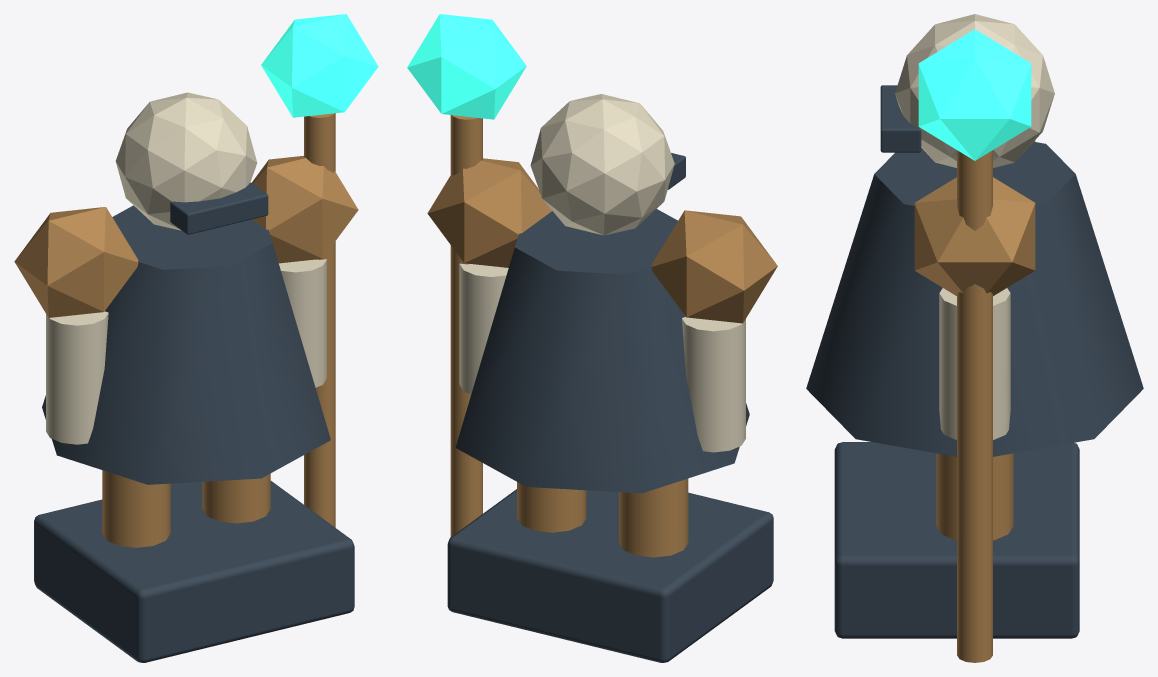
Rendered from sunfall-rift-moba-caster-minion-2ca2708e__21991.glb.
The picture shows the model from 3 angles, left to right: view 1: azimuth 30°, elevation 25°; view 2: azimuth 150°, elevation 25°; view 3: azimuth 270°, elevation 25°; orthographic projection. The views are drawn at different scales.
Visible parts, largest first — view 1: caster-minion; view 2: caster-minion; view 3: caster-minion.
Boxes of the visible parts, x1,y1,x2,y2 form: caster-minion: (14, 14, 378, 662); caster-minion: (407, 14, 777, 662); caster-minion: (806, 14, 1143, 662).
Bounding box in the file's own units: 0.8474 × 1.32 × 0.6613.
